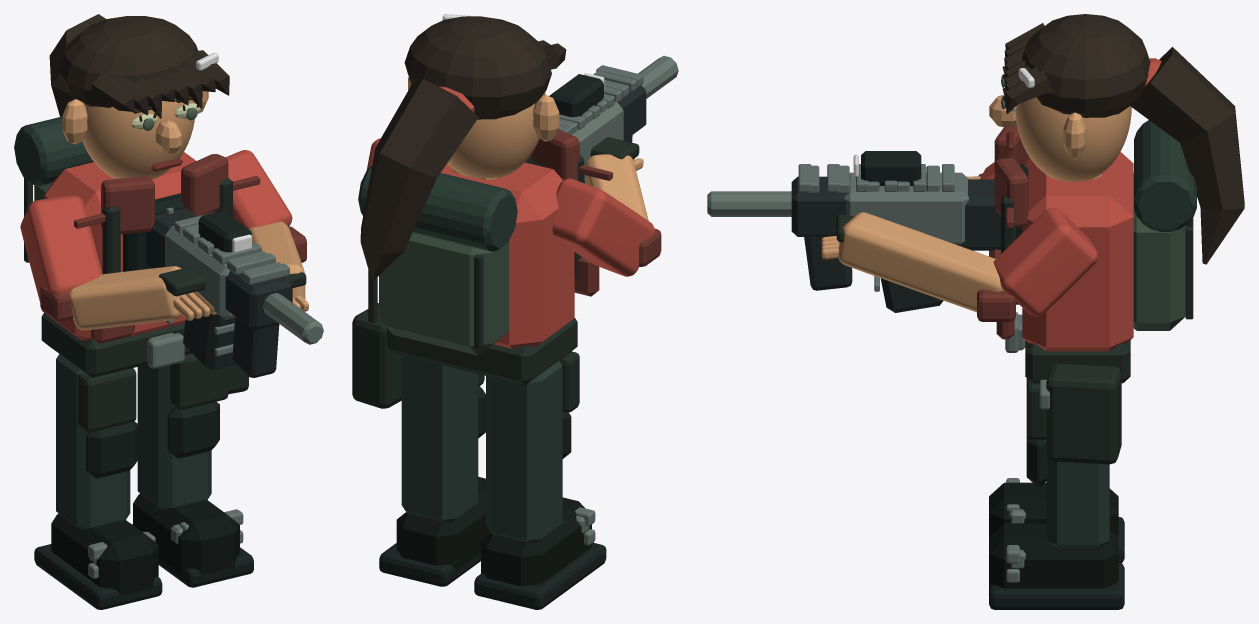
The model's file is survivor_female.glb.
3 renders of one model, left to right at view 1: azimuth 30°, elevation 25°; view 2: azimuth 150°, elevation 25°; view 3: azimuth 270°, elevation 25°, orthographic. The views are drawn at different scales.
Parts seen in each view (by area): view 1: HairMass, LegL, LegR, ArmL, BootR, BootL, Head, ForearmL, Torso, Belt, Bedroll, DetailCargoPocket (+36 smaller); view 2: LegL, LegR, Backpack, Ponytail, HairMass, Torso, ArmL, Bedroll, Belt, BootL, BootR, Head (+16 smaller); view 3: Torso, Ponytail, HairMass, ForearmR, DetailHolster, ArmR, BootR, Head, Bedroll, Backpack, LegR, GunReceiver (+17 smaller).
Boxes of the visible parts, x1,y1,x2,y2 form: HairMass: (59, 16, 197, 107); LegL: (56, 354, 130, 530); LegR: (137, 364, 211, 510); ArmL: (20, 195, 102, 302); BootR: (133, 493, 239, 575); BootL: (51, 513, 158, 595); Head: (82, 98, 195, 179); ForearmL: (69, 266, 185, 330); Torso: (44, 152, 214, 340); Belt: (41, 312, 192, 377); Bedroll: (14, 116, 93, 186); DetailCargoPocket: (78, 368, 136, 432); LegL: (486, 361, 562, 542); LegR: (401, 355, 478, 522); Backpack: (379, 232, 509, 355); Ponytail: (360, 79, 478, 279); HairMass: (404, 16, 551, 119); Torso: (441, 162, 574, 348); ArmL: (552, 178, 654, 276); Bedroll: (358, 165, 517, 251); Belt: (386, 318, 577, 385); BootL: (481, 497, 591, 586); BootR: (396, 477, 490, 570); Head: (447, 92, 545, 178); Torso: (1022, 152, 1133, 351); Ponytail: (1130, 47, 1244, 264); HairMass: (1022, 14, 1150, 117); ForearmR: (838, 212, 1003, 312); DetailHolster: (1046, 364, 1121, 464); ArmR: (993, 208, 1097, 316); BootR: (989, 523, 1118, 588); Head: (1015, 97, 1131, 181); Bedroll: (1134, 120, 1196, 231); Backpack: (1133, 173, 1186, 330); LegR: (1046, 458, 1109, 547); GunReceiver: (844, 172, 969, 244).
Size of the model in its own units: 0.99 by 2.02 by 1.78.
